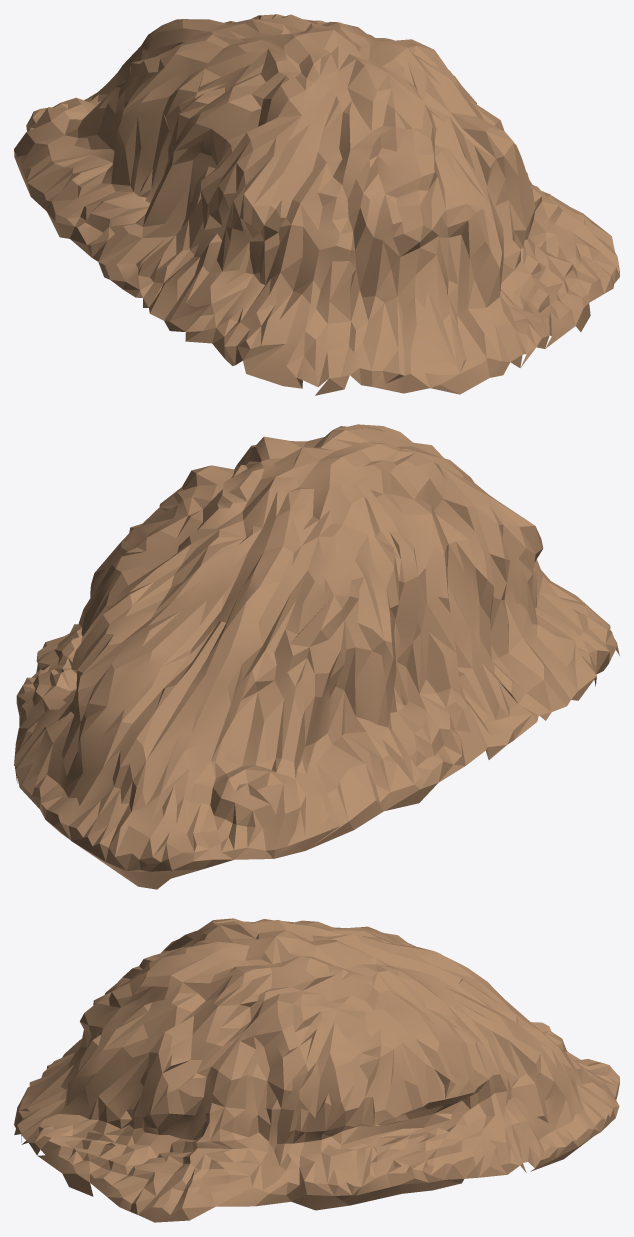
Rendered from Crag2.fbx.
3 renders of one model, top to bottom at view 1: azimuth 30°, elevation 25°; view 2: azimuth 150°, elevation 25°; view 3: azimuth 270°, elevation 25°, orthographic. The views are drawn at different scales.
Parts seen in each view (by area): view 1: Crag2; view 2: Crag2; view 3: Crag2.
Boxes of the visible parts, x1,y1,x2,y2 form: Crag2: (14, 14, 619, 395); Crag2: (14, 424, 619, 889); Crag2: (14, 918, 619, 1222).
Size of the model in its own units: 31.84 by 18.06 by 45.62.
